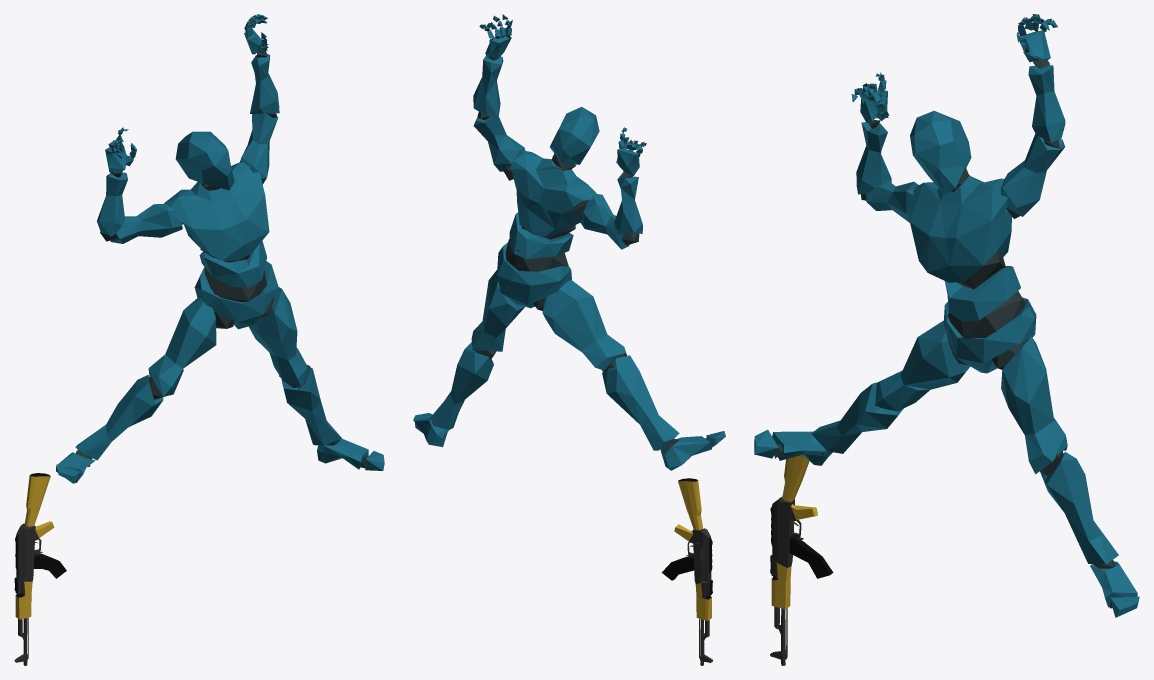
The model's file is EnemyDying_000135.obj.
3 renders of one model, left to right at view 1: azimuth 30°, elevation 25°; view 2: azimuth 150°, elevation 25°; view 3: azimuth 330°, elevation 25°, orthographic. The views are drawn at different scales.
Visible parts, largest first — view 1: Alpha_Surface, AK-47_Cube, Alpha_Joints; view 2: Alpha_Surface, AK-47_Cube, Alpha_Joints; view 3: Alpha_Surface, AK-47_Cube, Alpha_Joints.
Boxes of the visible parts, x1,y1,x2,y2 form: Alpha_Surface: (56, 14, 384, 483); AK-47_Cube: (14, 473, 66, 665); Alpha_Joints: (75, 15, 368, 482); Alpha_Surface: (413, 14, 725, 470); AK-47_Cube: (661, 478, 712, 665); Alpha_Joints: (475, 17, 710, 452); Alpha_Surface: (754, 14, 1139, 617); AK-47_Cube: (770, 455, 833, 665); Alpha_Joints: (774, 14, 1117, 608).
Bounding box in the file's own units: 313 × 536 × 70.92.
